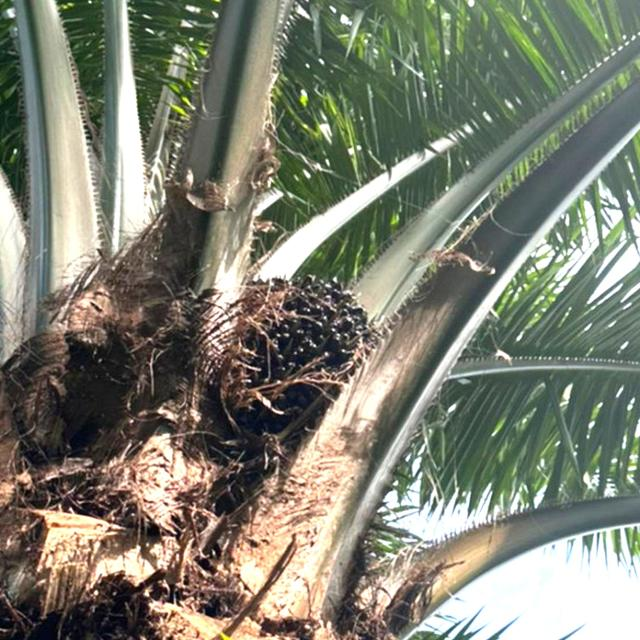almost: (225, 263, 378, 429)
